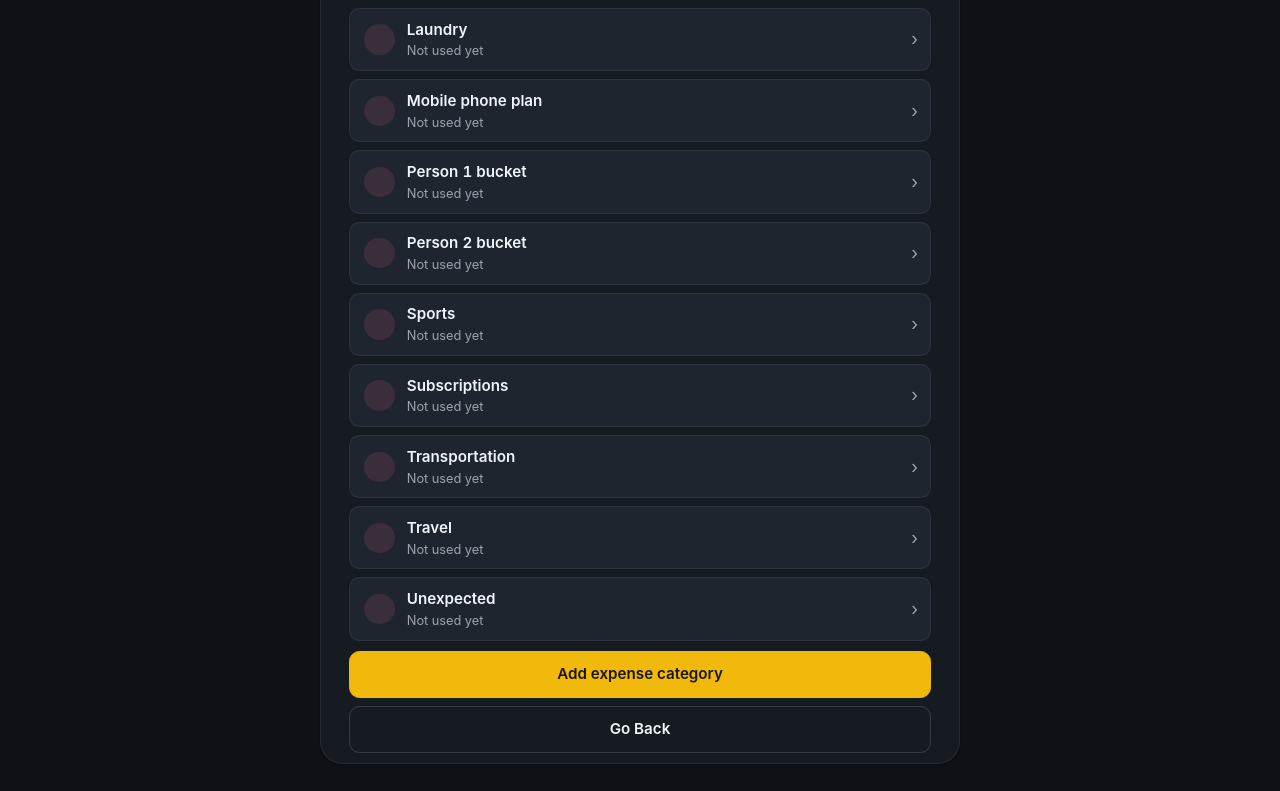
Test: category + bucket creation (issue #100) › user can create a new category from the Categories context, without creating a bucket
The image size is (1280, 791).
(page scrolled)
Expected: the button "Gym" is not shown
Click the button "Add expense category": (640, 674) [349, 651, 931, 698]
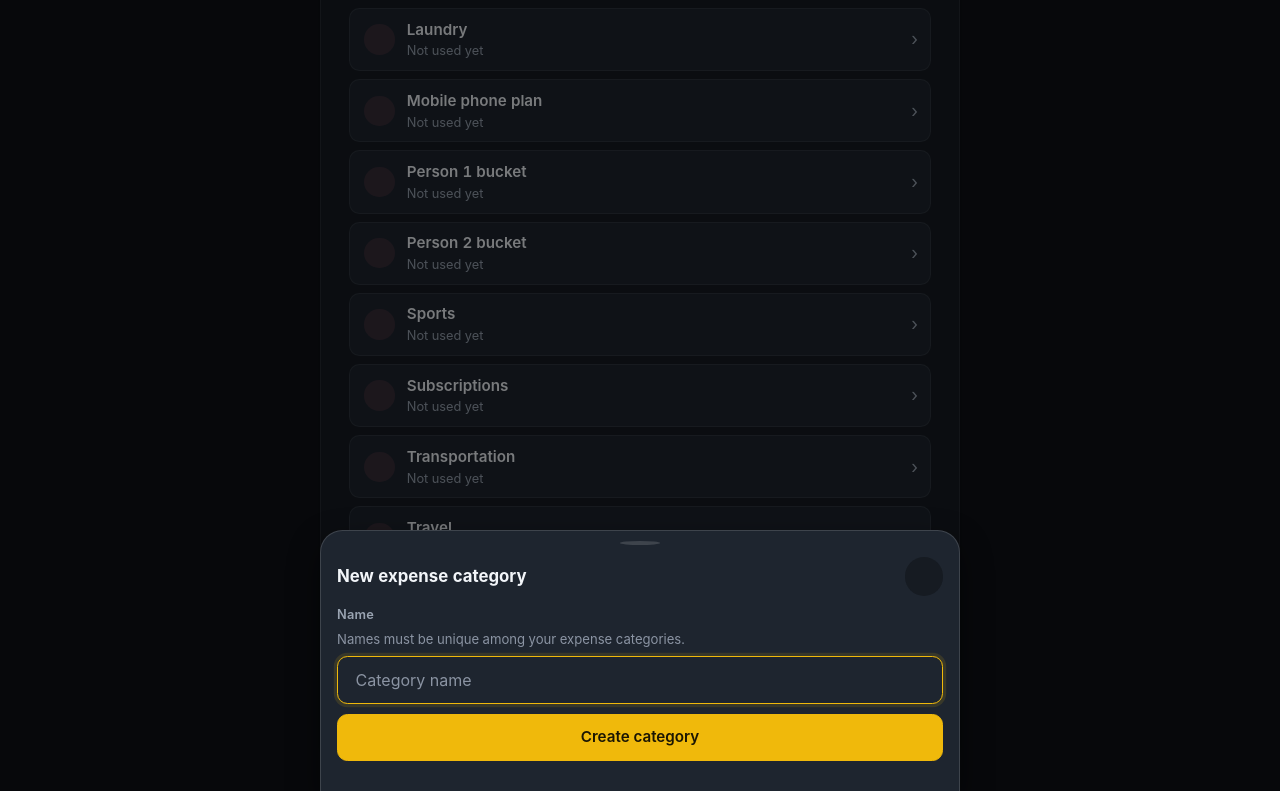
In the field labelled "Name": (640, 680) [337, 656, 943, 704], type "Gym"
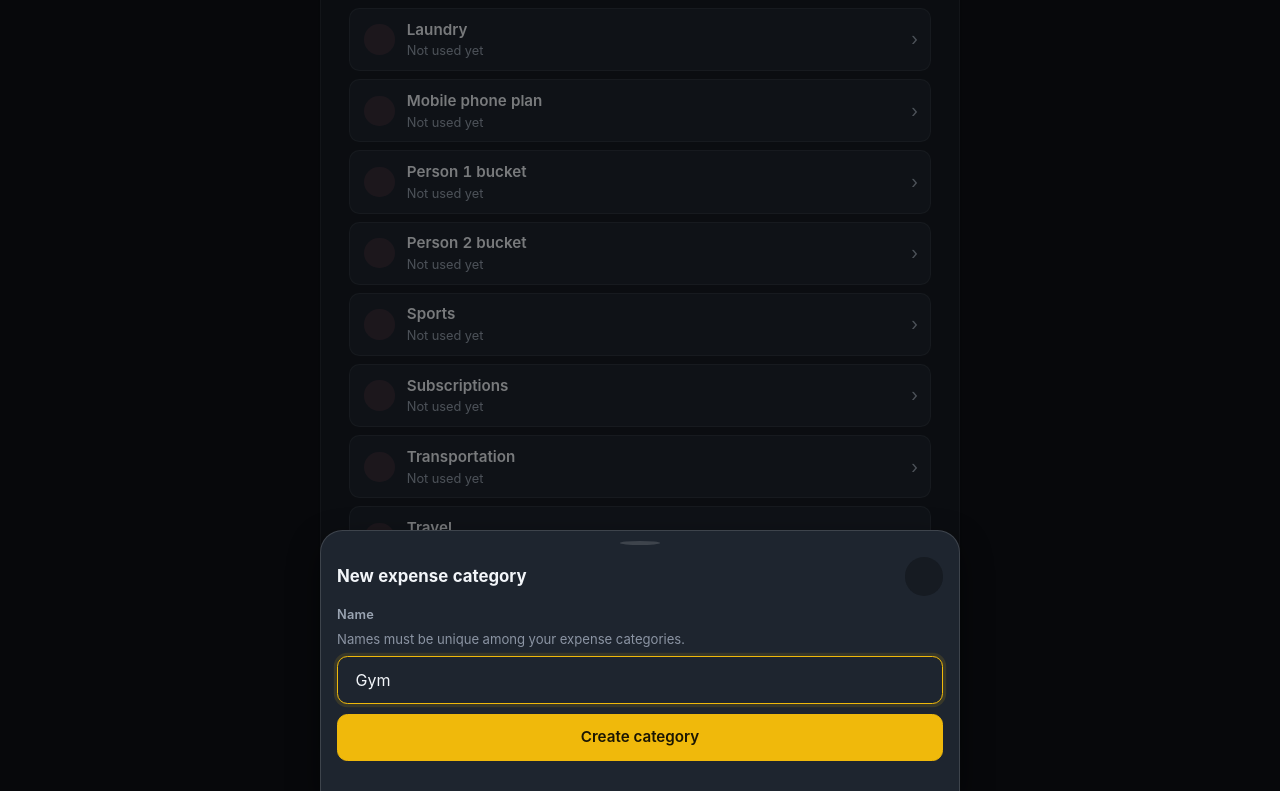
Click the button "Create category": (640, 737) [337, 714, 943, 761]
(page scrolled)
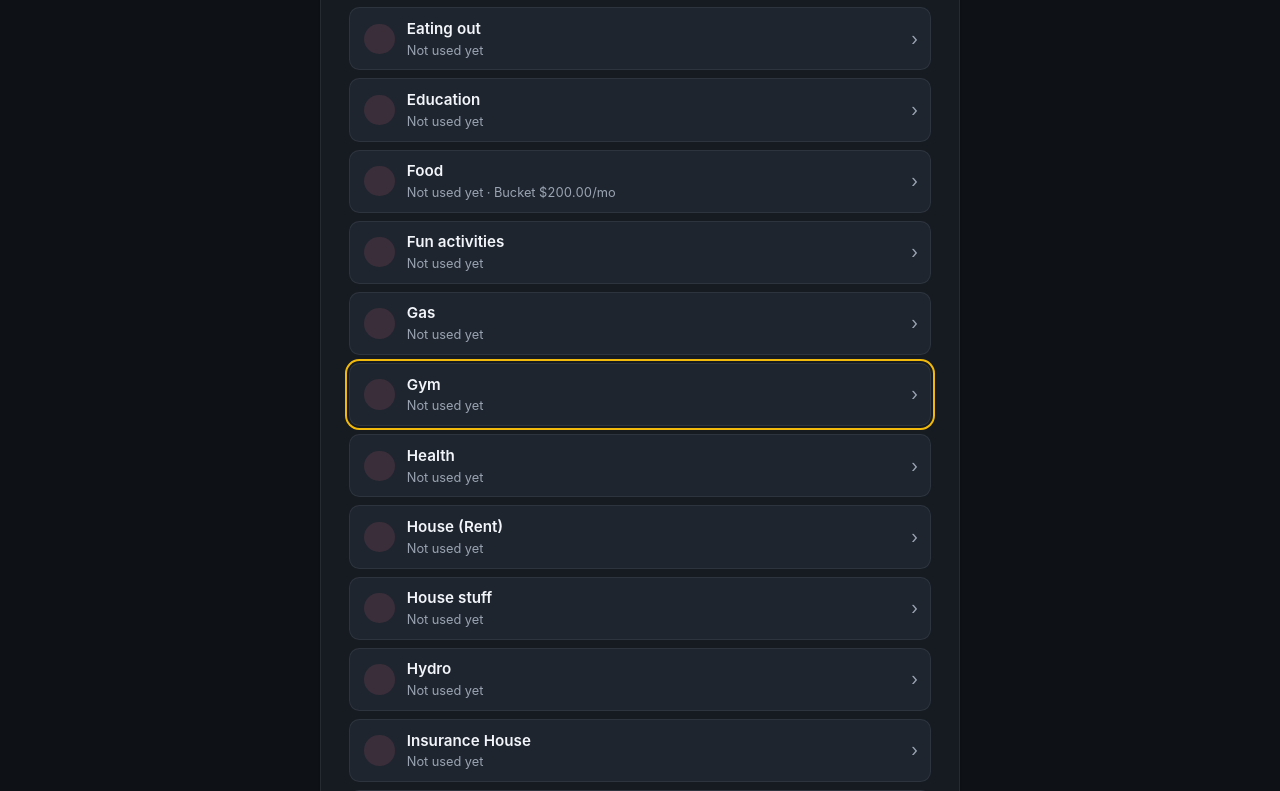
Result: the button "Gym Not used yet ›" is shown at [349, 363, 931, 426]
